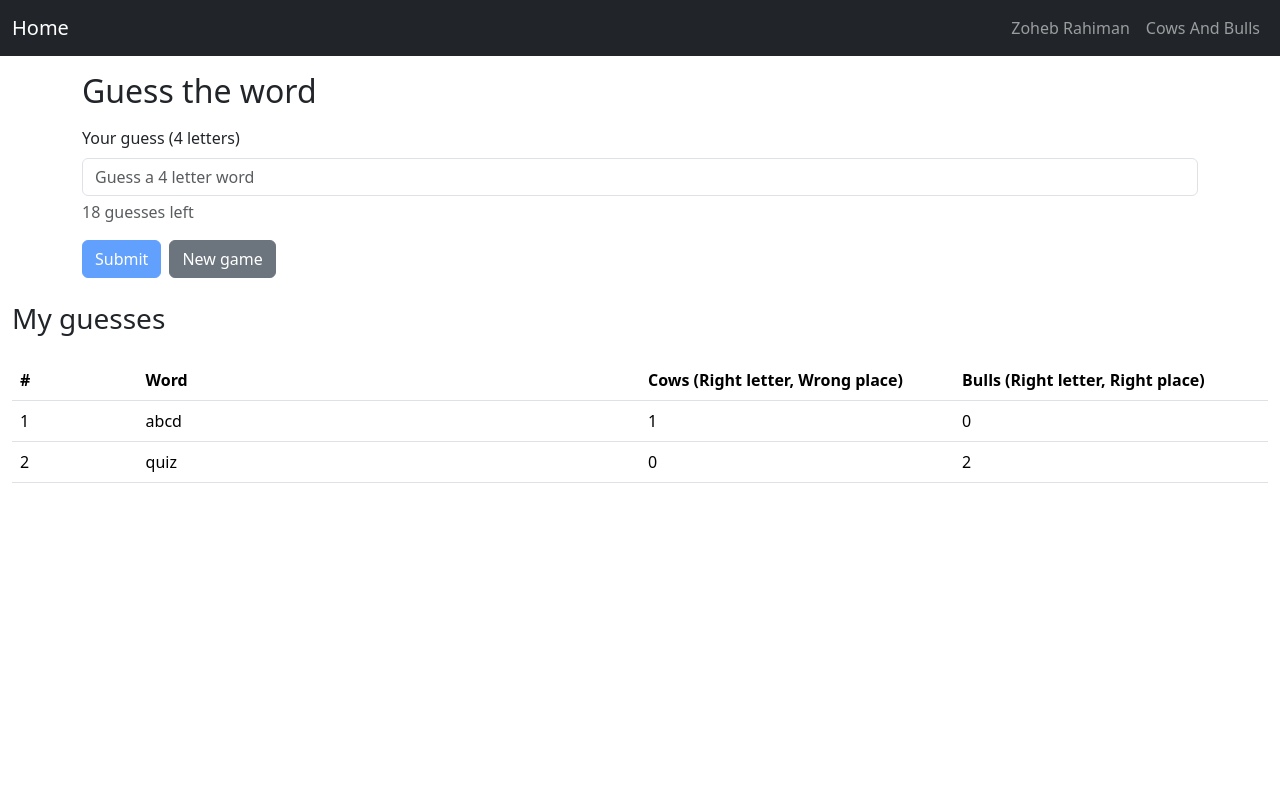
Scenario: submitting a guess › falls back to a generic message when a rejection has no reason
This screenshot has width=1280, height=800.
Type "gold" into the field labelled "Your guess (4 letters)" at (640, 177), box [82, 158, 1198, 196]
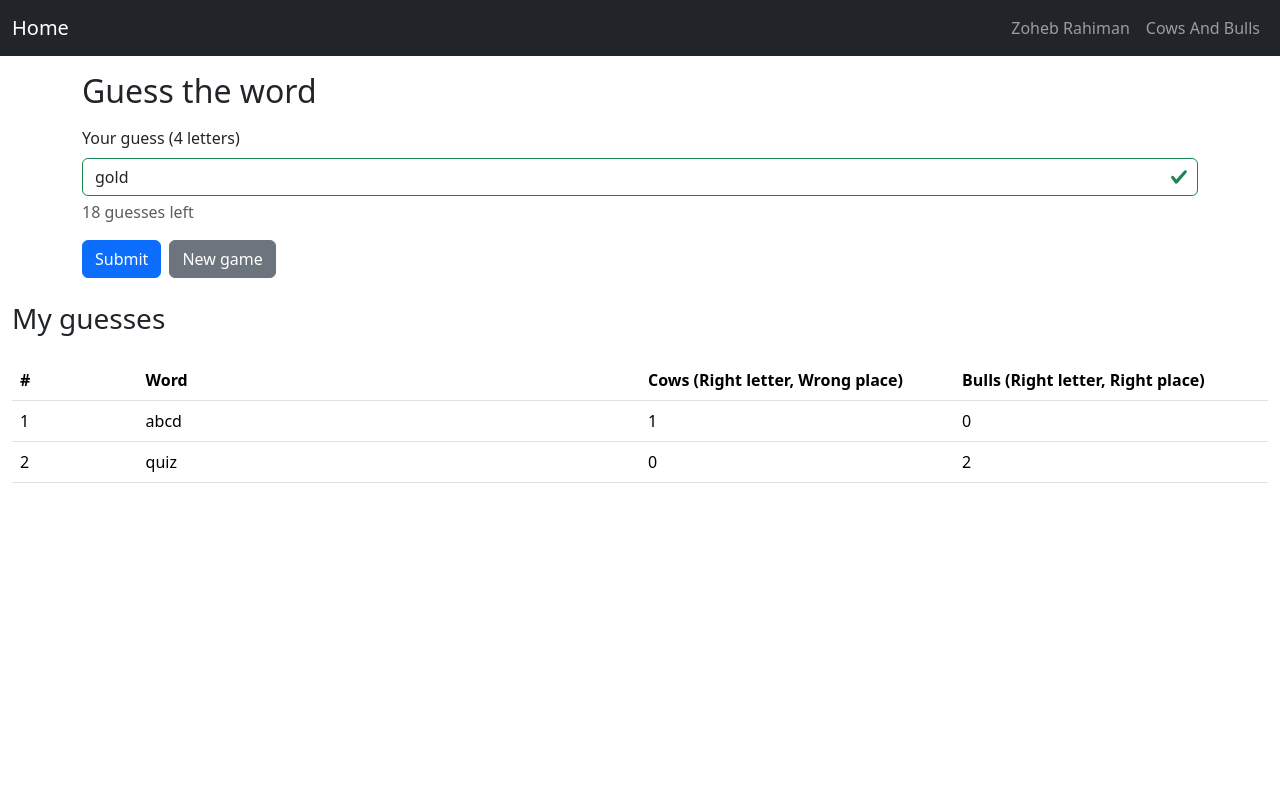
Click the button "Submit" at (122, 259), box [82, 240, 161, 278]
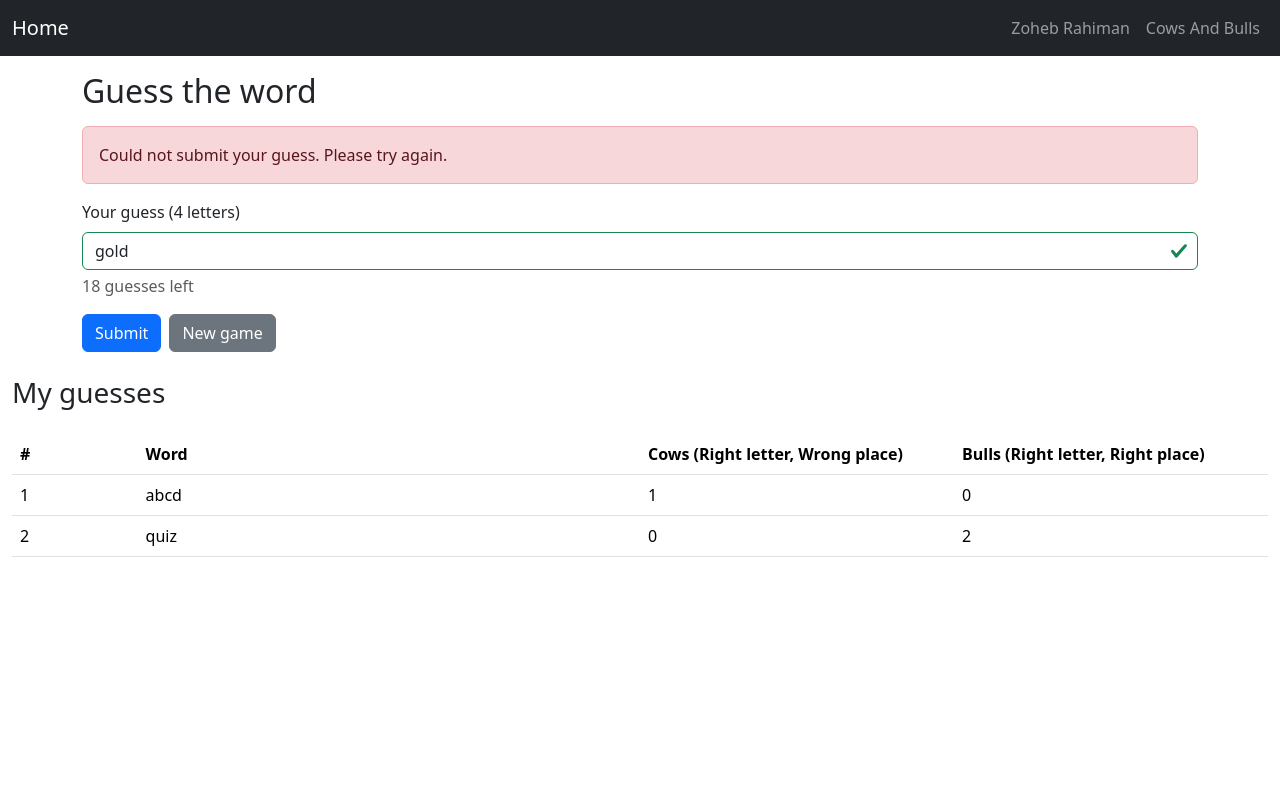
Result: the message shows "Could not submit" at [99, 144, 447, 166]
